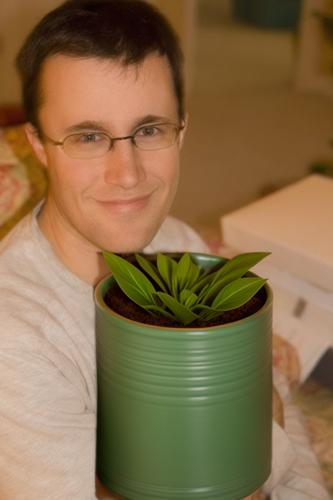person: (2, 4, 330, 500)
person/hand: (223, 349, 298, 432)
person/head: (20, 14, 196, 254)
pottedplant: (94, 252, 272, 500)
